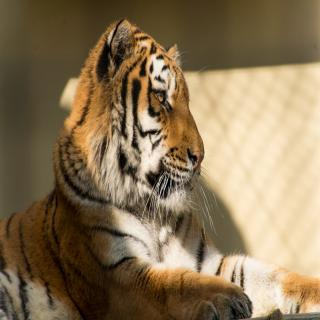Tiger: (1, 17, 319, 319)
